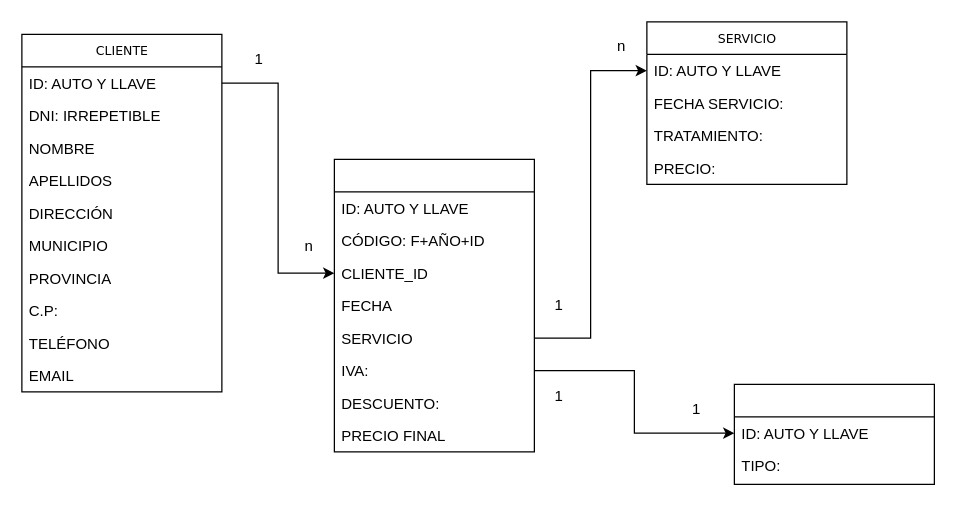
Image size: 956x508. Some labels were removed from this diagram. The shapes that lost their labels are listed below. From the top down, each one's box as (x1, y1, x2, y2) in pixels, then its label:
(333, 158, 534, 452): FACTURA
(733, 383, 934, 484): IVA
